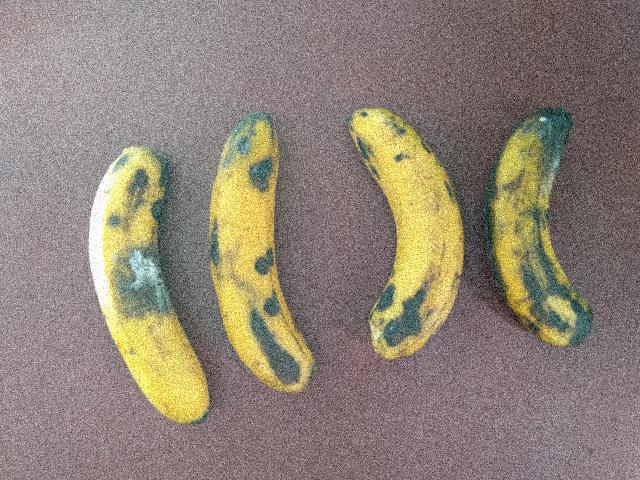overripe: (322, 86, 481, 369), (193, 104, 319, 406)
ripe: (80, 121, 216, 454)
rotten: (476, 98, 620, 391), (108, 231, 199, 356)
